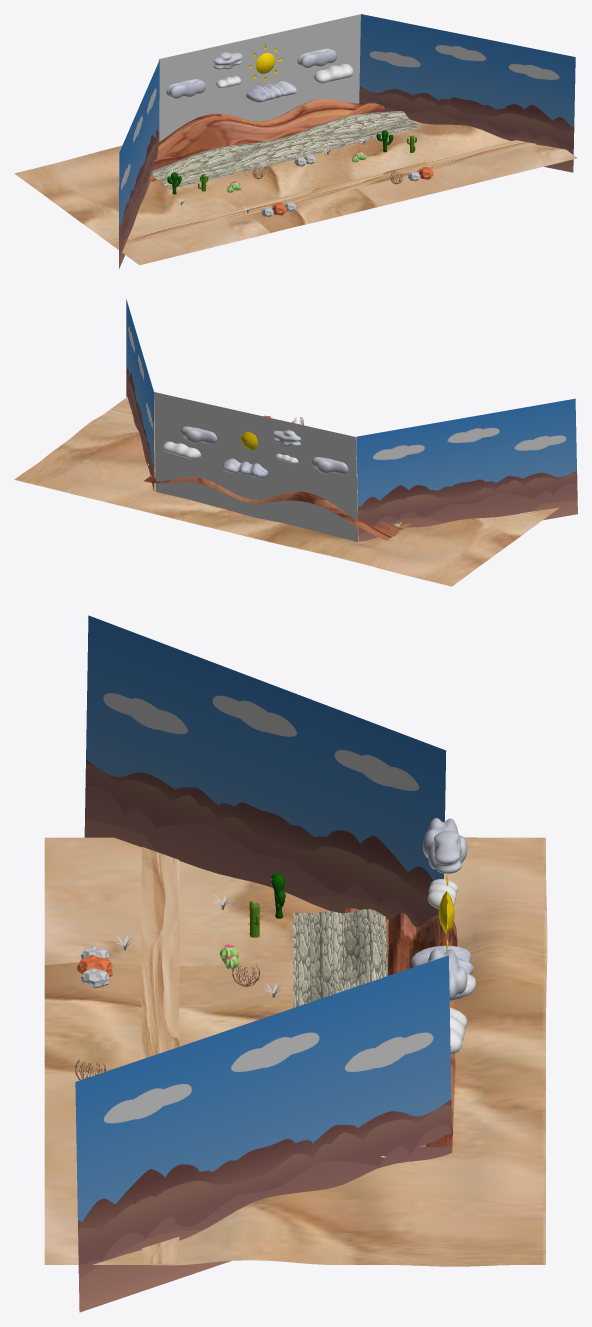
The model's file is desiertooo .fbx.
3 views of the same model, one above another, from view 1: azimuth 30°, elevation 25°; view 2: azimuth 150°, elevation 25°; view 3: azimuth 270°, elevation 25° (orthographic). The views are drawn at different scales.
Visible parts, largest first — view 1: arena, cielo.001, cielo, montaña gris, montaña marron, cielo.002, eial, NUBE 2, NUBE 4, NUBE 6, NUBE 3, NUBE 1 (+1 smaller); view 2: cielo.002, arena, cielo, cielo.001, montaña marron, NUBE 2, NUBE 6, NUBE 4, NUBE 3, eial, NUBE 1; view 3: arena, cielo.001, cielo.002, eial, montaña gris, montaña marron, roca 3, NUBE 1, NUBE 2, NUBE 6.
Boxes of the visible parts, x1=… form: arena: x1=14, y1=120, x2=577, y2=265; cielo.001: x1=359, y1=14, x2=575, y2=172; cielo: x1=158, y1=14, x2=360, y2=141; montaña gris: x1=151, y1=111, x2=421, y2=189; montaña marron: x1=149, y1=99, x2=385, y2=181; cielo.002: x1=119, y1=60, x2=159, y2=268; eial: x1=107, y1=140, x2=536, y2=246; NUBE 2: x1=246, y1=80, x2=296, y2=102; NUBE 4: x1=297, y1=48, x2=337, y2=67; NUBE 6: x1=166, y1=79, x2=205, y2=98; NUBE 3: x1=314, y1=63, x2=353, y2=83; NUBE 1: x1=213, y1=52, x2=242, y2=69; cielo.002: x1=356, y1=398, x2=577, y2=541; arena: x1=14, y1=391, x2=559, y2=586; cielo: x1=154, y1=392, x2=357, y2=542; cielo.001: x1=126, y1=299, x2=154, y2=491; montaña marron: x1=144, y1=471, x2=411, y2=540; NUBE 2: x1=223, y1=458, x2=268, y2=477; NUBE 6: x1=311, y1=457, x2=348, y2=474; NUBE 4: x1=180, y1=426, x2=217, y2=443; NUBE 3: x1=162, y1=441, x2=200, y2=459; eial: x1=106, y1=405, x2=551, y2=518; NUBE 1: x1=272, y1=430, x2=301, y2=446; arena: x1=44, y1=837, x2=547, y2=1266; cielo.001: x1=75, y1=955, x2=452, y2=1312; cielo.002: x1=84, y1=615, x2=446, y2=927; eial: x1=141, y1=847, x2=179, y2=1263; montaña gris: x1=293, y1=909, x2=387, y2=1157; montaña marron: x1=345, y1=908, x2=457, y2=1146; roca 3: x1=77, y1=946, x2=112, y2=988; NUBE 1: x1=434, y1=830, x2=462, y2=873; NUBE 2: x1=411, y1=945, x2=476, y2=1000; NUBE 6: x1=422, y1=818, x2=467, y2=869.
Size of the model in its own units: 3835 by 1036 by 1839.
